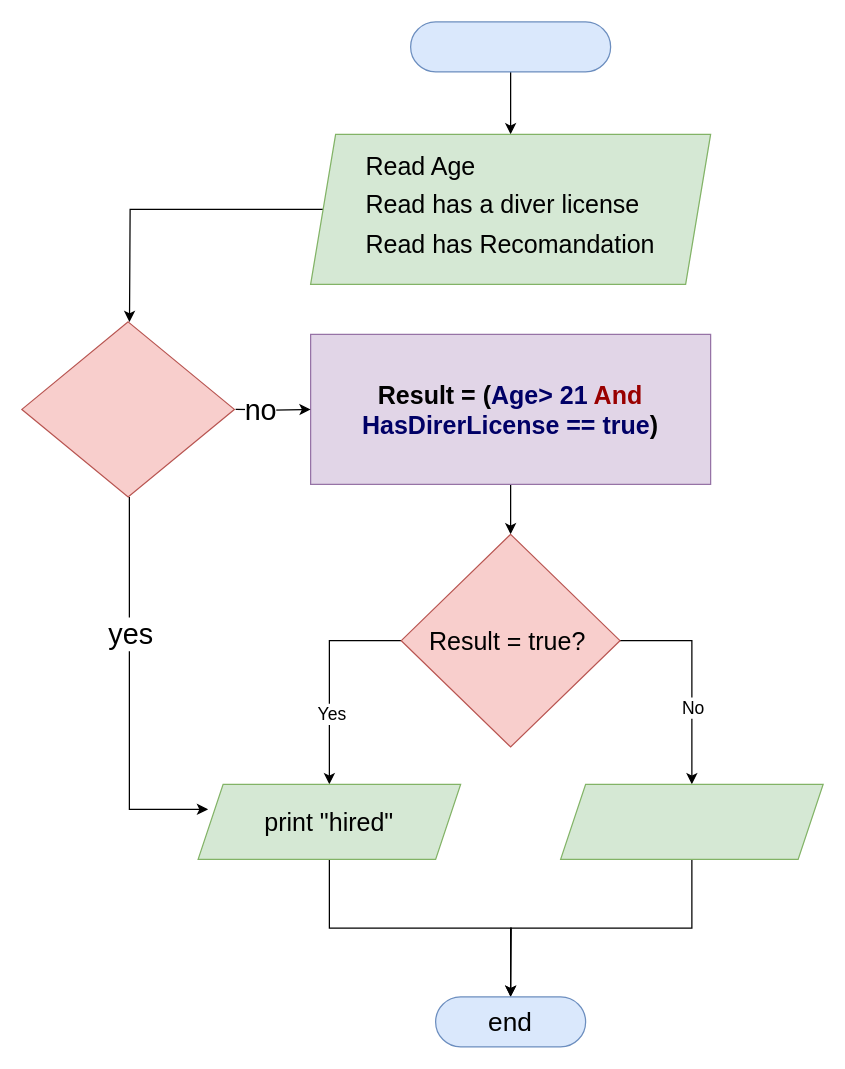
Image size: 845x1069. Some labels were removed from this diagram. The centre of each missing label's shape, as x and y in pixels:
print "Rejected": (x=691, y=821)
Recomandation= true?: (x=127, y=409)
start: (x=510, y=46)
